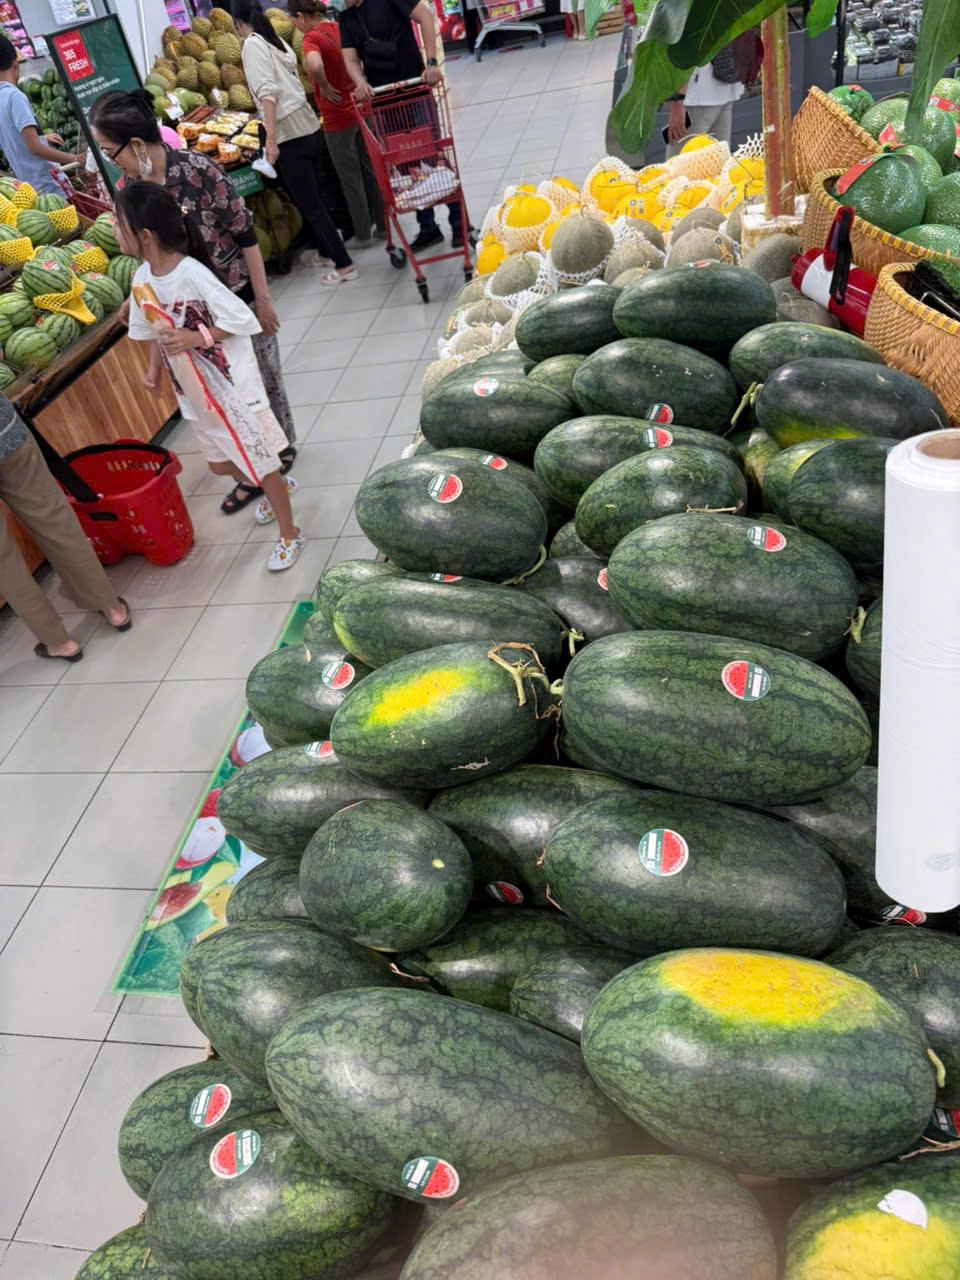watermelon: (565, 938, 944, 1170), (250, 983, 604, 1174), (532, 761, 854, 951), (550, 626, 883, 796), (430, 1165, 773, 1280), (145, 1131, 395, 1280), (610, 506, 881, 638), (325, 631, 542, 784), (290, 800, 472, 957), (330, 575, 566, 668), (360, 461, 554, 571), (120, 1055, 270, 1184), (788, 1185, 960, 1280), (747, 358, 944, 435), (570, 445, 753, 526), (560, 338, 730, 411), (419, 361, 560, 445), (218, 751, 338, 842), (247, 638, 340, 744), (200, 940, 281, 1060), (620, 263, 779, 322), (510, 295, 614, 354)
